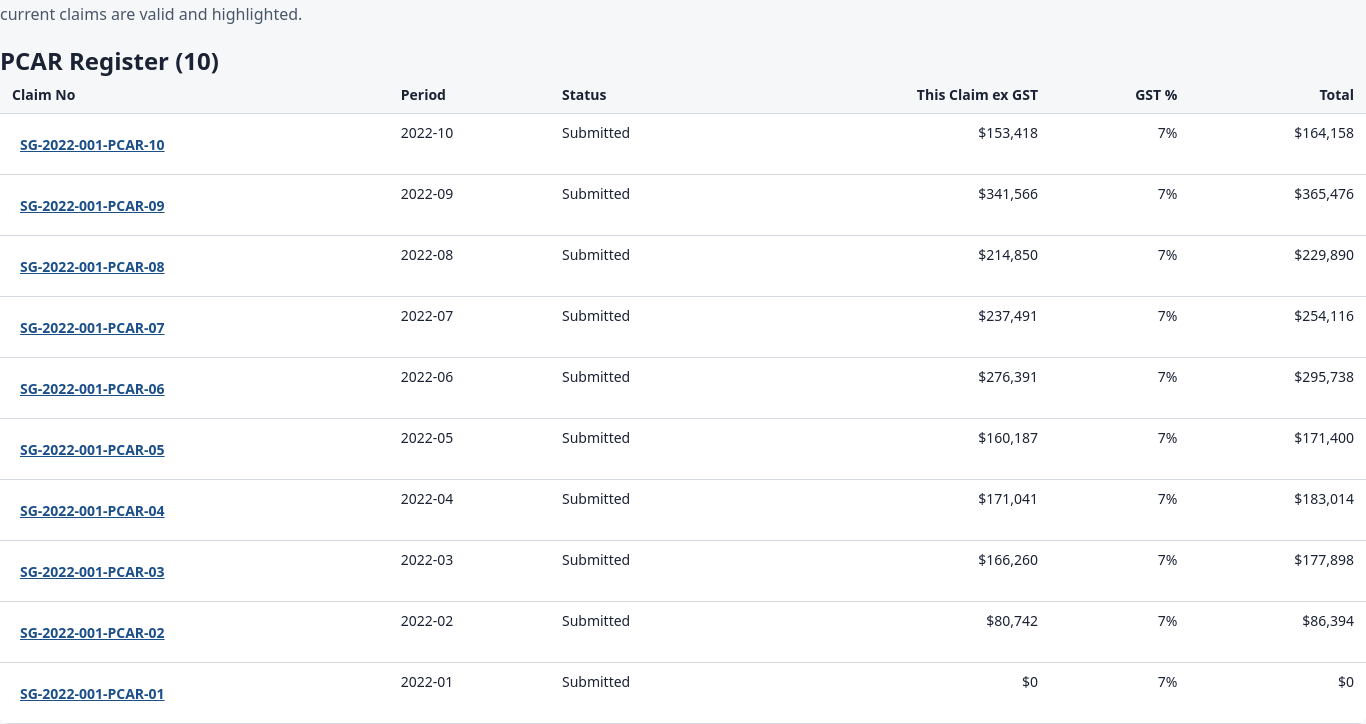
Test: ClaimsView (TASK-007) › shows work lines with prior/current percentages and movement
(page scrolled)
Click the button "SG-2022-001-PCAR-01" at (92, 693), box [12,671,173,715]
(page scrolled)
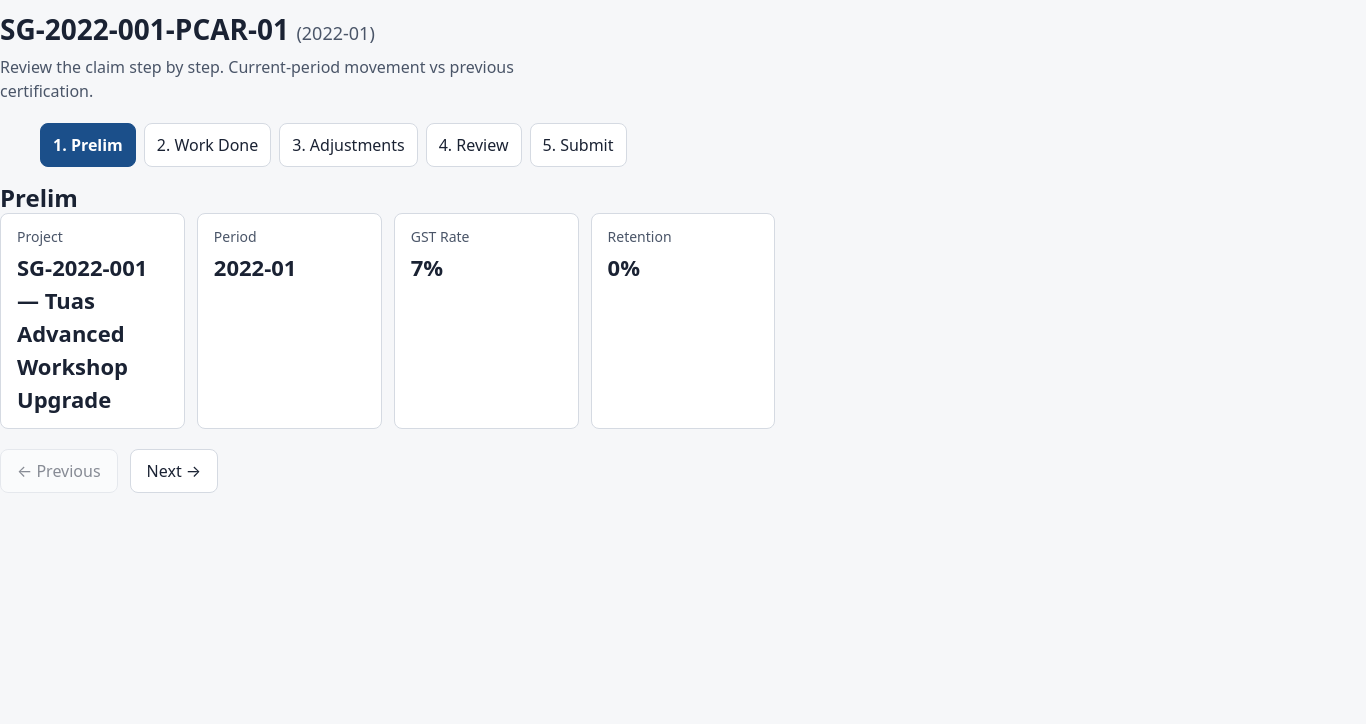
Click the button "2. Work Done" at (208, 145), box [144,123,271,167]
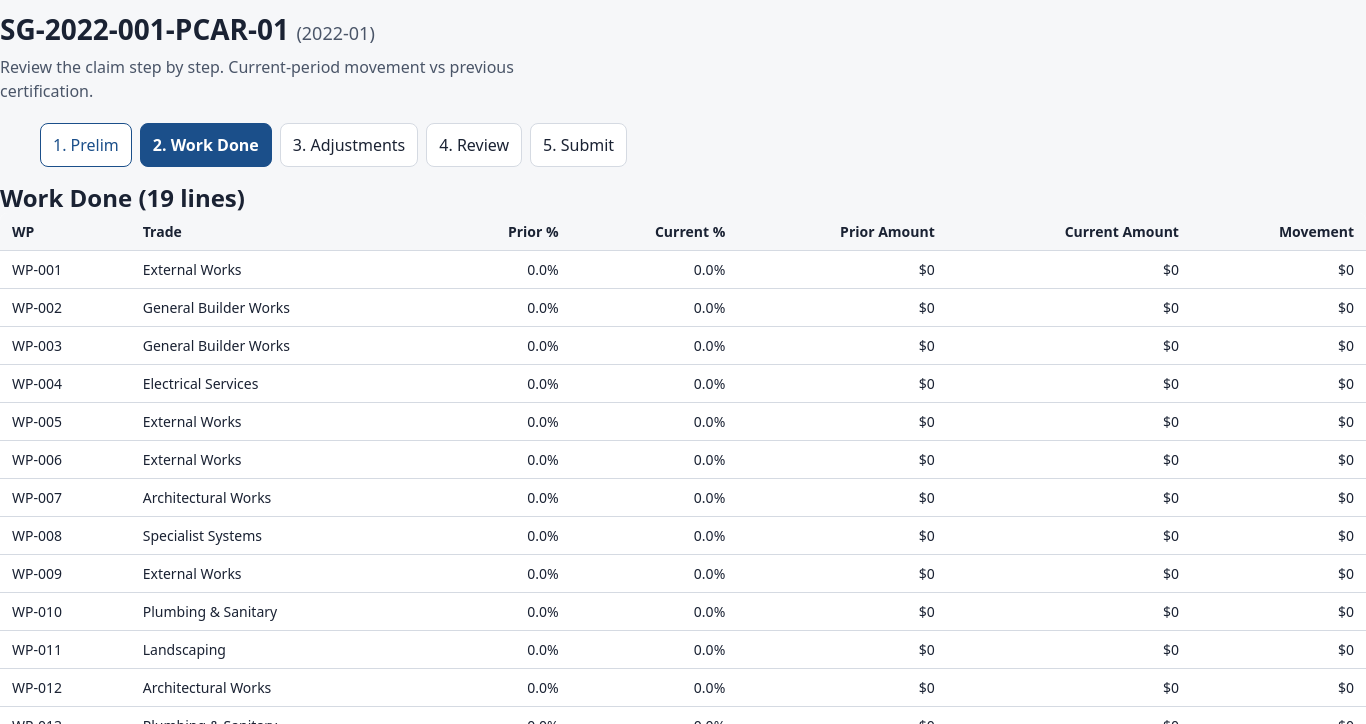
Check: the number of rows is 20
